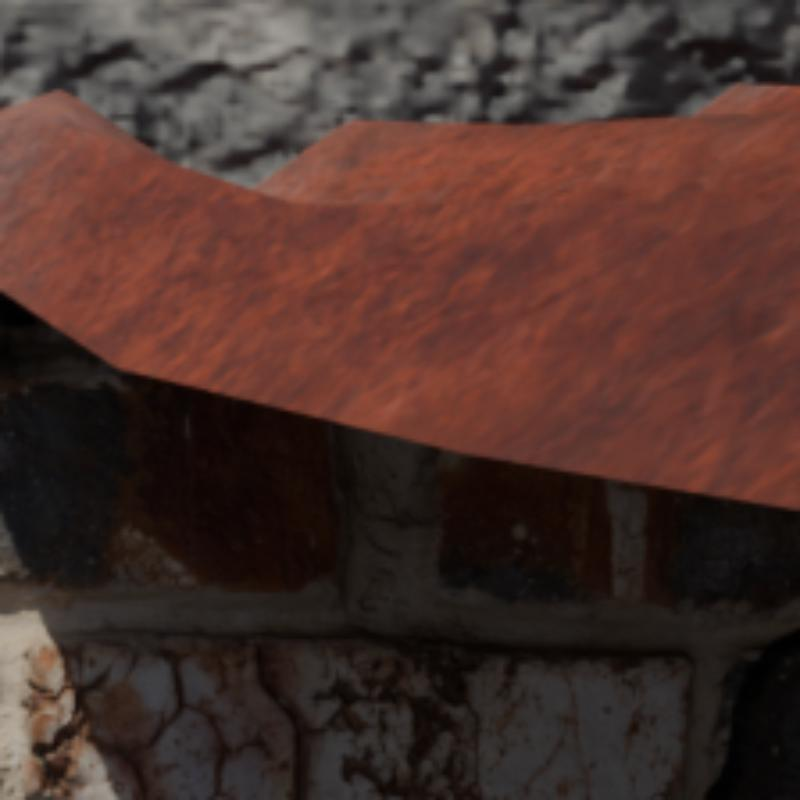pothole: (704, 629, 796, 796), (93, 657, 186, 796), (257, 639, 304, 796), (186, 704, 261, 796)
